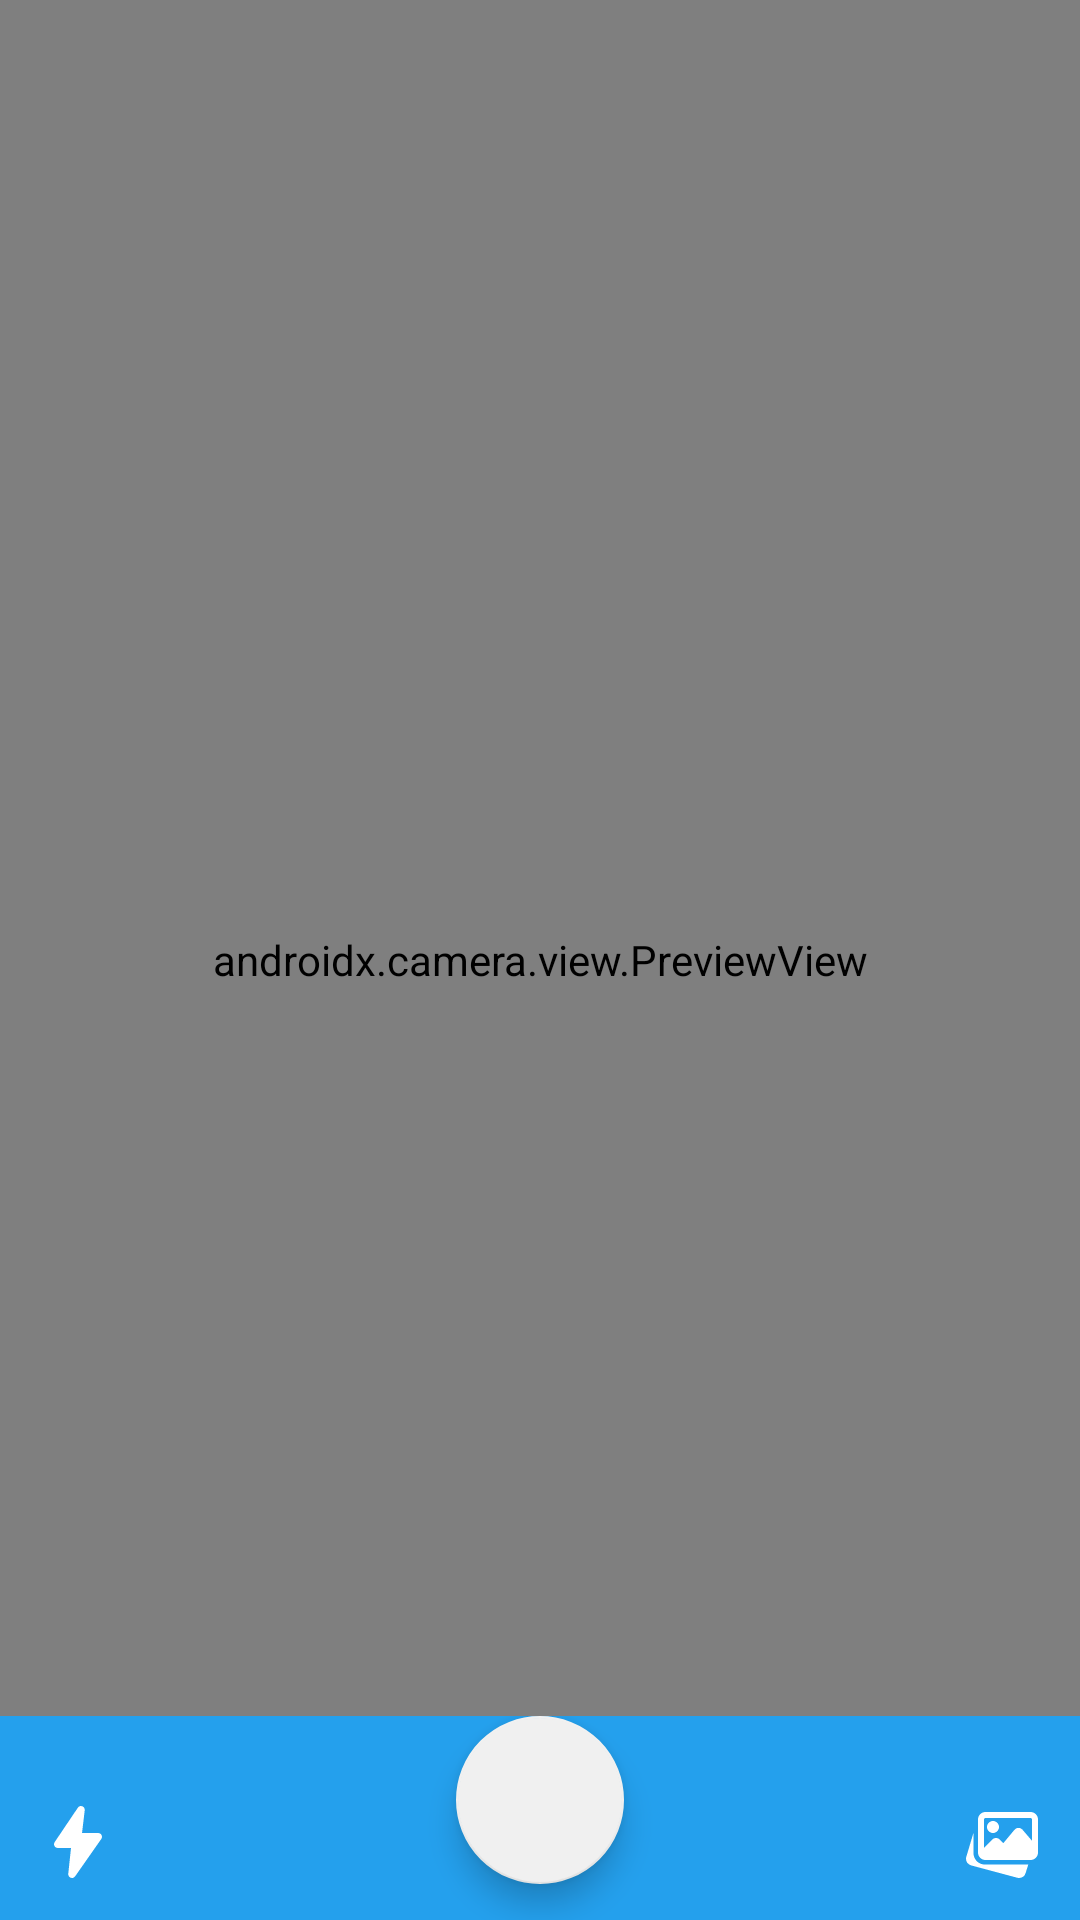

Icons on this 1080w x 1920h Android screen, each with its box as (x1, y1, x2, y2):
flash on: (54, 1806, 102, 1878)
gallery: (966, 1812, 1038, 1878)
